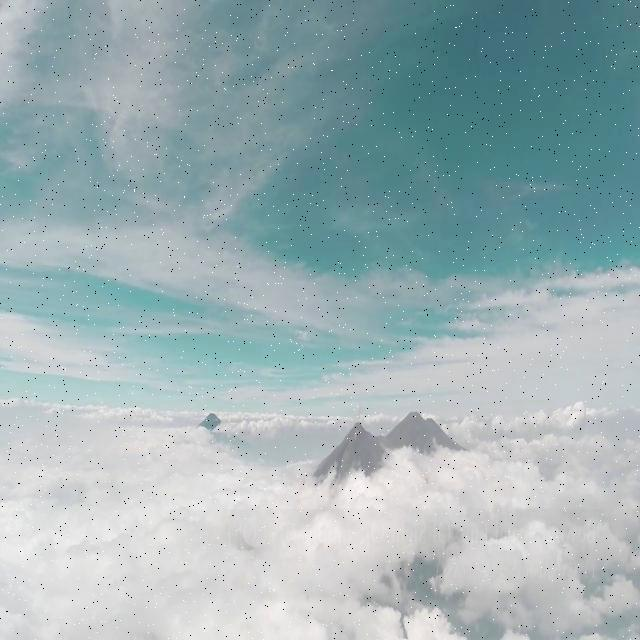Plume: (348, 395, 366, 418)
Summit: (336, 418, 378, 444)
